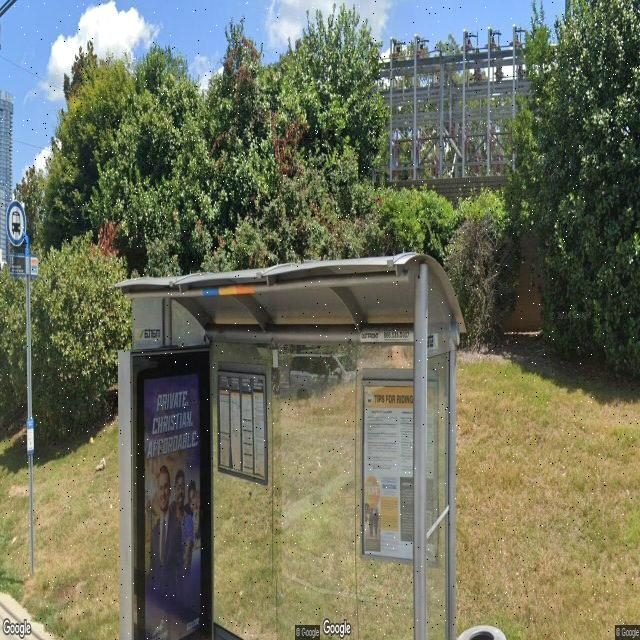shelter: (109, 251, 468, 640)
trash_can: (454, 625, 508, 640)
